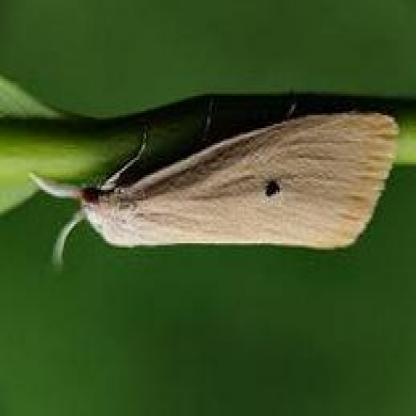stem-borer: (27, 106, 400, 269)
